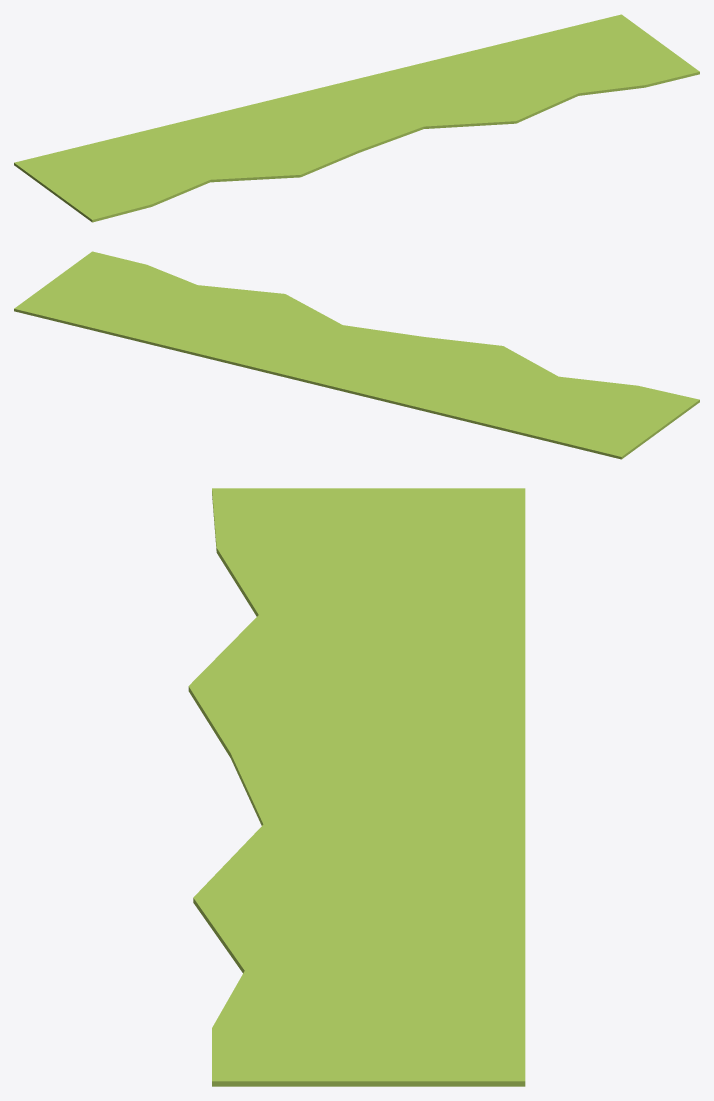
3 views of the same model, one above another, from view 1: azimuth 30°, elevation 25°; view 2: azimuth 150°, elevation 25°; view 3: azimuth 270°, elevation 25° (orthographic). The views are drawn at different scales.
Parts seen in each view (by area): view 1: 独立草顶.001; view 2: 独立草顶.001; view 3: 独立草顶.001.
Part boxes in pixels (x1,y1,x2,y2): 独立草顶.001: (14, 14, 699, 222); 独立草顶.001: (14, 251, 699, 459); 独立草顶.001: (188, 488, 525, 1086).
Size of the model in its own units: 3 by 0.012 by 0.72.
